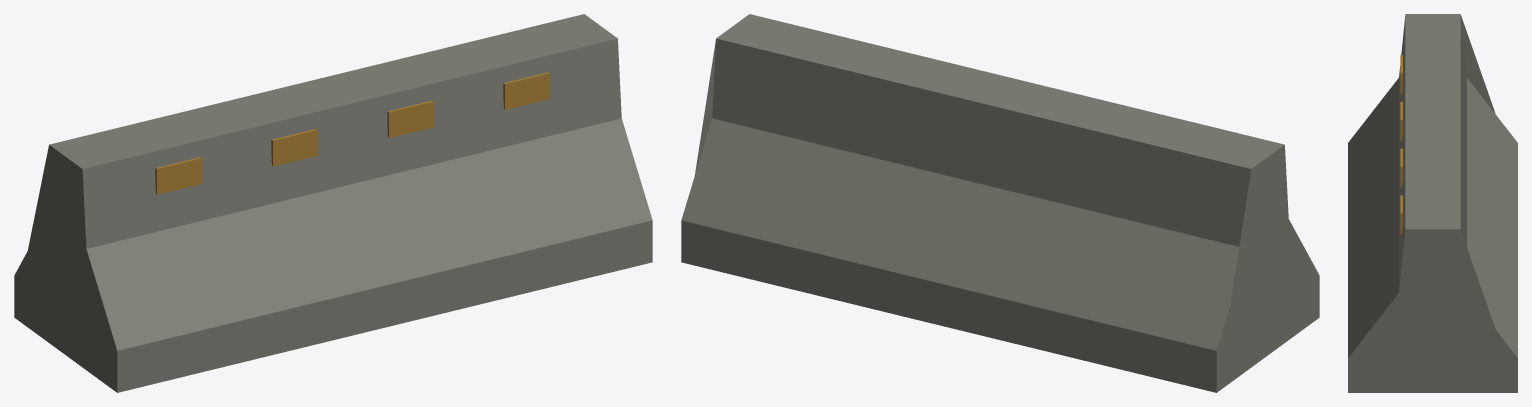
3 views of the same model, side by side, from view 1: azimuth 30°, elevation 25°; view 2: azimuth 150°, elevation 25°; view 3: azimuth 270°, elevation 25° (orthographic). The views are drawn at different scales.
Parts seen in each view (by area): view 1: concreto; view 2: concreto; view 3: concreto.
Boxes of the visible parts, left/top/right/bottom form: concreto: left=14, top=14, right=652, bottom=392; concreto: left=681, top=14, right=1319, bottom=392; concreto: left=1348, top=14, right=1517, bottom=392.
Bounding box in the file's own units: 2.4 × 0.85 × 0.8.
1 material, 1 textured.
